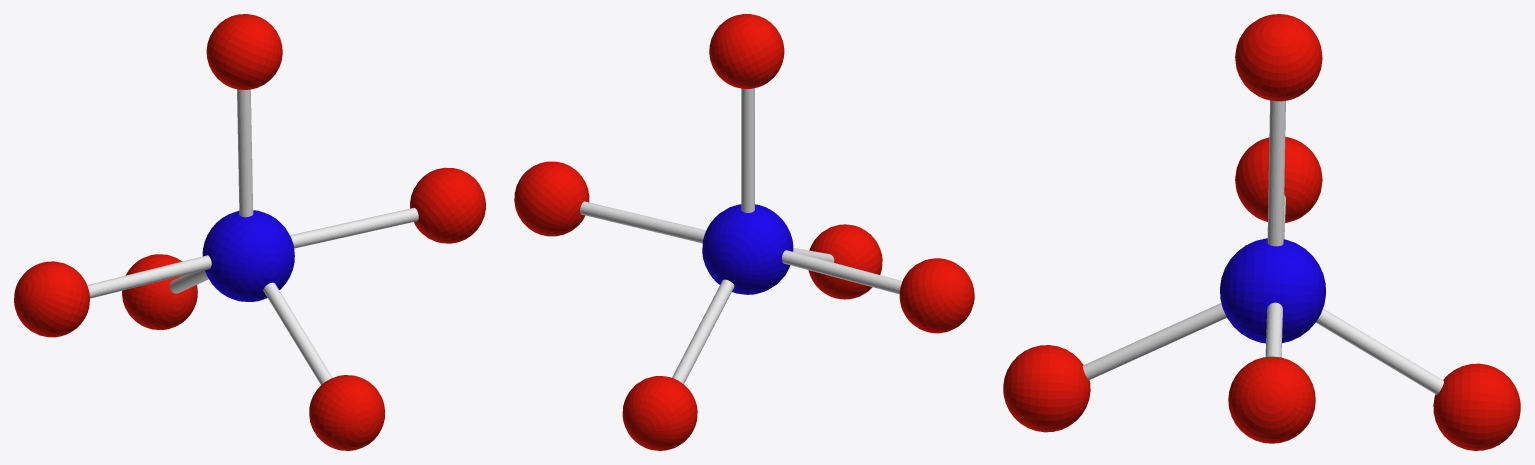
File: ucgen cıftpıramıt.gltf
The picture shows the model from 3 angles, left to right: view 1: azimuth 30°, elevation 25°; view 2: azimuth 150°, elevation 25°; view 3: azimuth 270°, elevation 25°; orthographic projection. The views are drawn at different scales.
Visible parts, largest first — view 1: Sphere, Sphere.001, Sphere.005, Sphere.003, Sphere.004, Sphere.002, Cylinder.002, Cylinder.004, Cylinder.001, Cylinder.005, Cylinder.003; view 2: Sphere, Sphere.001, Sphere.005, Sphere.002, Sphere.004, Sphere.003, Cylinder.002, Cylinder.001, Cylinder.004, Cylinder.003; view 3: Sphere, Sphere.005, Sphere.004, Sphere.003, Sphere.002, Sphere.001, Cylinder.005, Cylinder.004, Cylinder.003, Cylinder.002.
Part boxes in pixels (x1,y1,x2,y2): Sphere: [202, 210, 294, 301]; Sphere.001: [14, 261, 89, 337]; Sphere.005: [206, 14, 282, 89]; Sphere.003: [309, 375, 384, 450]; Sphere.004: [410, 167, 485, 243]; Sphere.002: [122, 254, 197, 329]; Cylinder.002: [290, 208, 418, 248]; Cylinder.004: [237, 89, 253, 217]; Cylinder.001: [87, 255, 211, 298]; Cylinder.005: [263, 282, 332, 384]; Cylinder.003: [169, 270, 208, 293]; Sphere: [702, 204, 793, 294]; Sphere.001: [899, 258, 974, 333]; Sphere.005: [709, 14, 784, 88]; Sphere.002: [622, 376, 697, 450]; Sphere.004: [514, 161, 589, 236]; Sphere.003: [808, 224, 882, 299]; Cylinder.002: [580, 201, 706, 243]; Cylinder.001: [782, 250, 902, 294]; Cylinder.004: [741, 88, 754, 212]; Cylinder.003: [672, 279, 734, 384]; Sphere: [1220, 238, 1325, 343]; Sphere.005: [1235, 14, 1322, 101]; Sphere.004: [1228, 356, 1315, 443]; Sphere.003: [1003, 345, 1090, 432]; Sphere.002: [1433, 363, 1520, 450]; Sphere.001: [1235, 136, 1322, 222]; Cylinder.005: [1082, 303, 1226, 379]; Cylinder.004: [1267, 100, 1285, 246]; Cylinder.003: [1316, 308, 1443, 394]; Cylinder.002: [1265, 302, 1282, 357].
Size of the model in its own units: 11.44 by 8.88 by 9.73.
